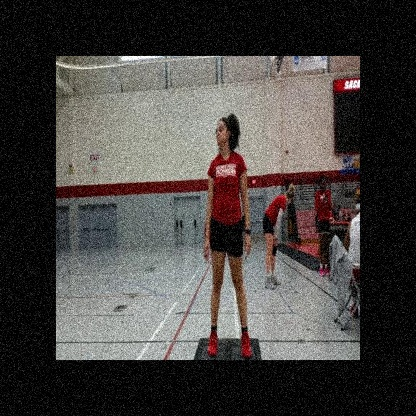lateral_flexion_left: (201, 100, 255, 360)
stance_width_normal: (202, 150, 255, 359)
